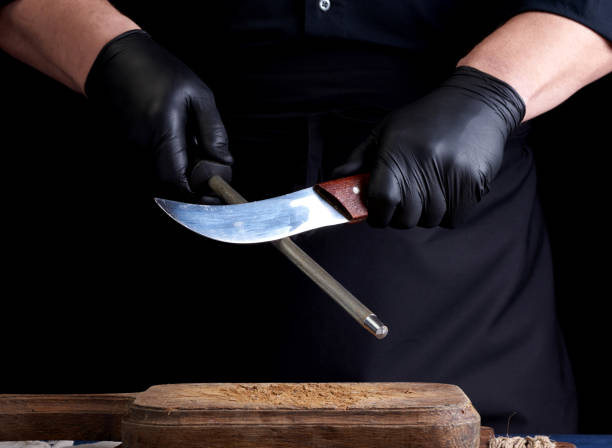knife: (152, 168, 374, 247)
